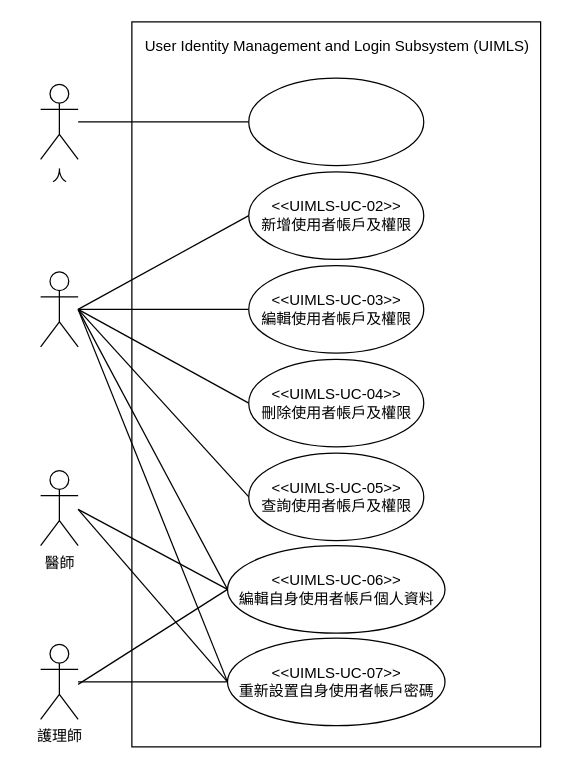
Some shapes in this 563 by 769 pixel diagram are drawn without their labels. The centre of each missing label's shape, as x and y in pixels:
"<<UIMLS-UC-01>> 登入系統" goes at pixel 336 121.
"系統管理員" goes at pixel 58 309.
